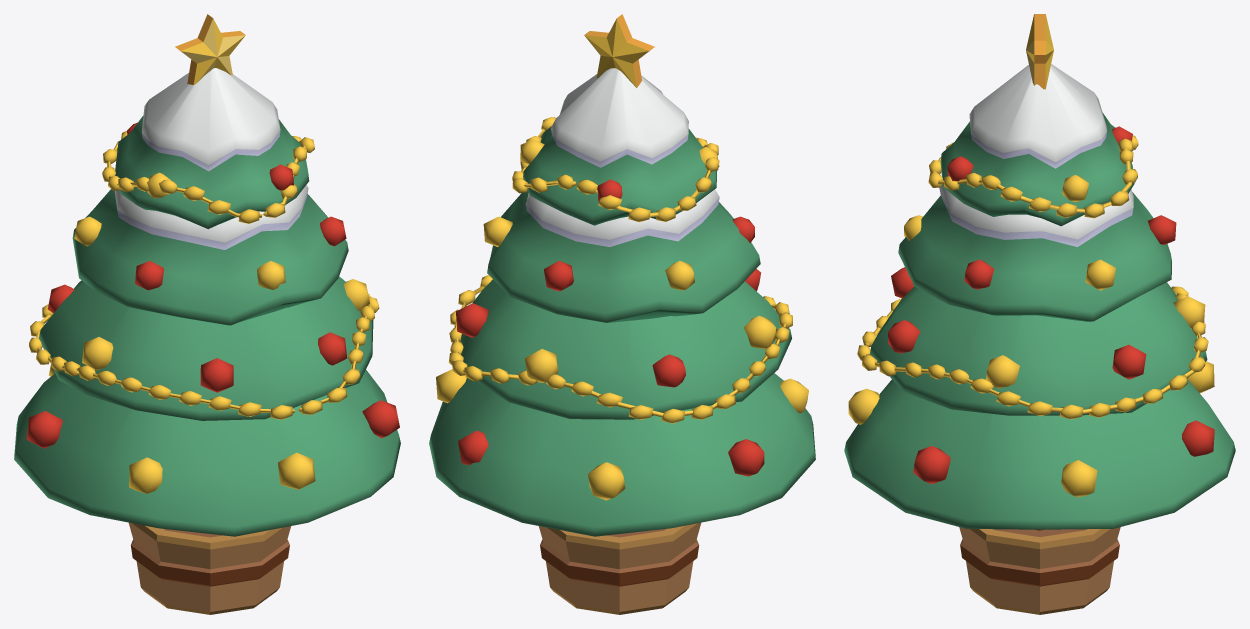
File: ChristmasSpruce.glb
The picture shows the model from 3 angles, left to right: view 1: azimuth 30°, elevation 25°; view 2: azimuth 150°, elevation 25°; view 3: azimuth 270°, elevation 25°; orthographic projection.
Visible parts, largest first — view 1: ChristmasSpruce; view 2: ChristmasSpruce; view 3: ChristmasSpruce.
Boxes of the visible parts, bbox=[...] form: ChristmasSpruce: bbox=[14, 14, 400, 614]; ChristmasSpruce: bbox=[429, 14, 815, 614]; ChristmasSpruce: bbox=[844, 14, 1235, 614].
Size of the model in its own units: 2.26 by 3.64 by 2.26.
Materials: 1 (1 with a texture image).
